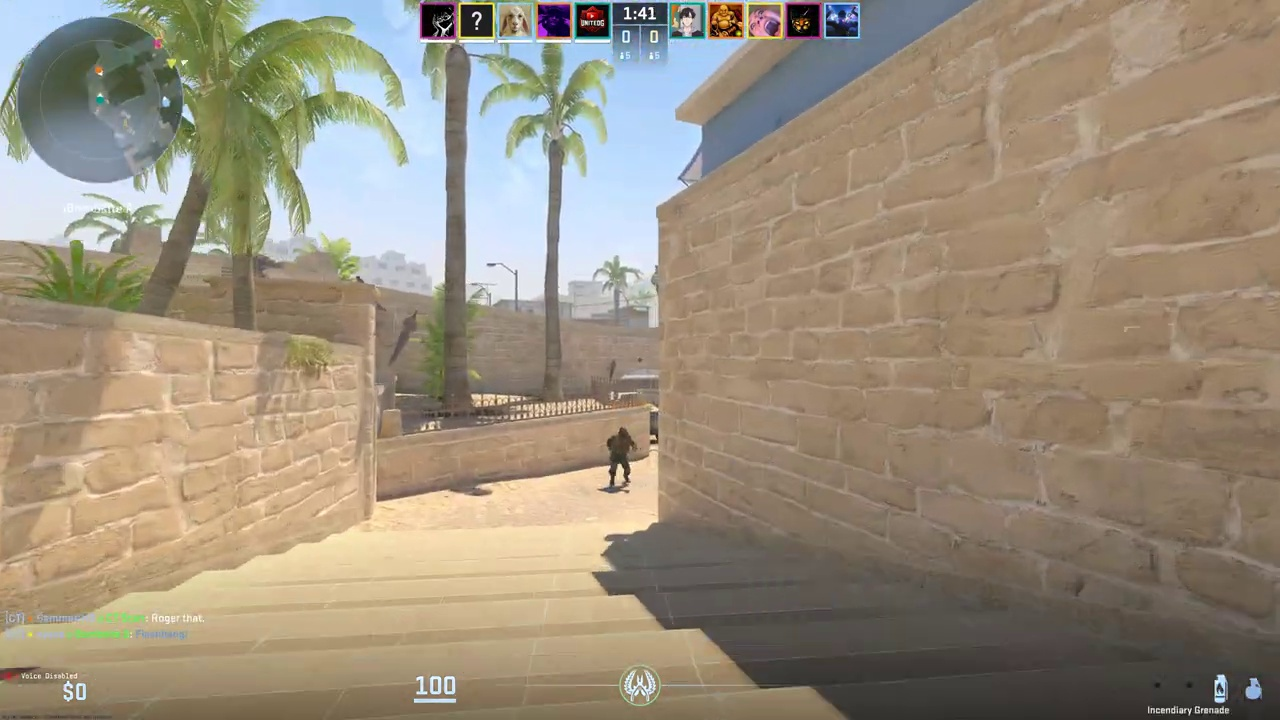CT: (609, 428, 635, 489)
